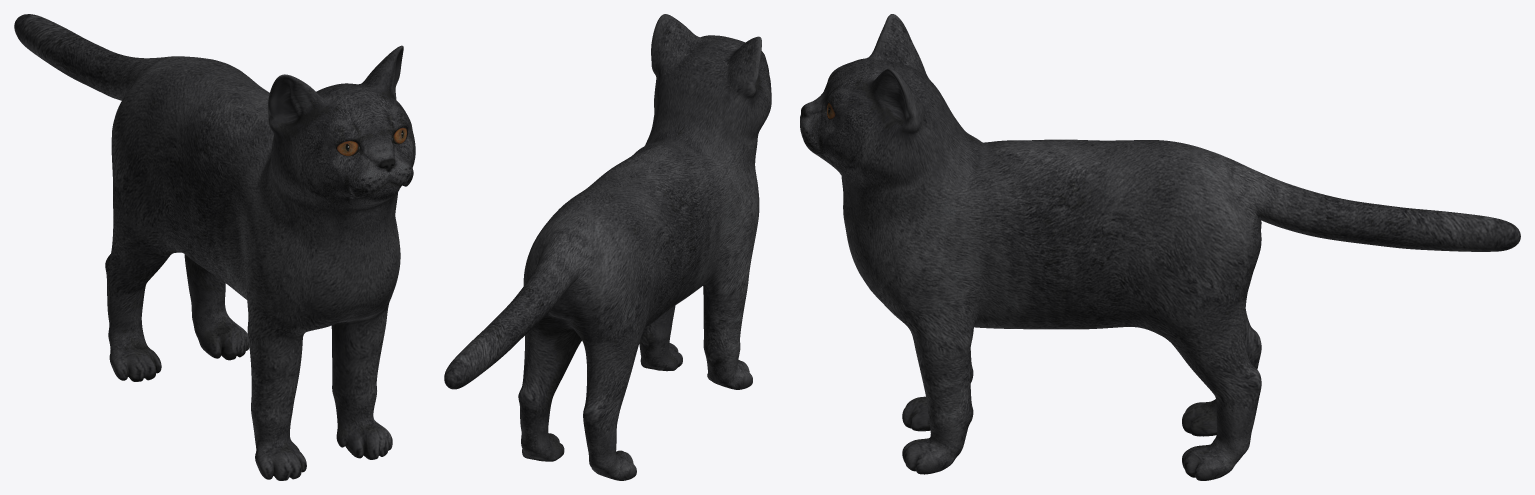
File: blackcatFriend.glb
3 renders of one model, left to right at view 1: azimuth 30°, elevation 25°; view 2: azimuth 150°, elevation 25°; view 3: azimuth 270°, elevation 25°, orthographic. The views are drawn at different scales.
Visible parts, largest first — view 1: 12222_Cat_v1_l3; view 2: 12222_Cat_v1_l3; view 3: 12222_Cat_v1_l3.
Part boxes in pixels (x1,y1,x2,y2): 12222_Cat_v1_l3: (14, 14, 415, 480); 12222_Cat_v1_l3: (444, 14, 771, 480); 12222_Cat_v1_l3: (800, 14, 1520, 480).
Bounding box in the file's own units: 12.56 × 38.17 × 60.77.
1 material, 1 textured.
